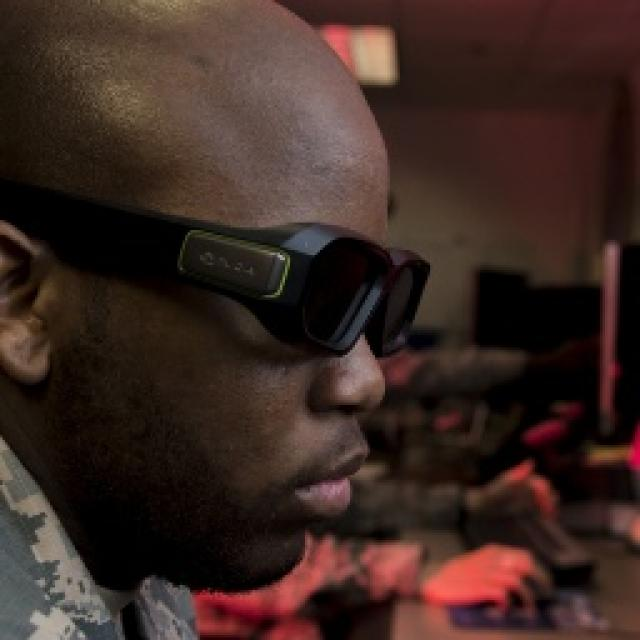glasses: (57, 173, 436, 371)
